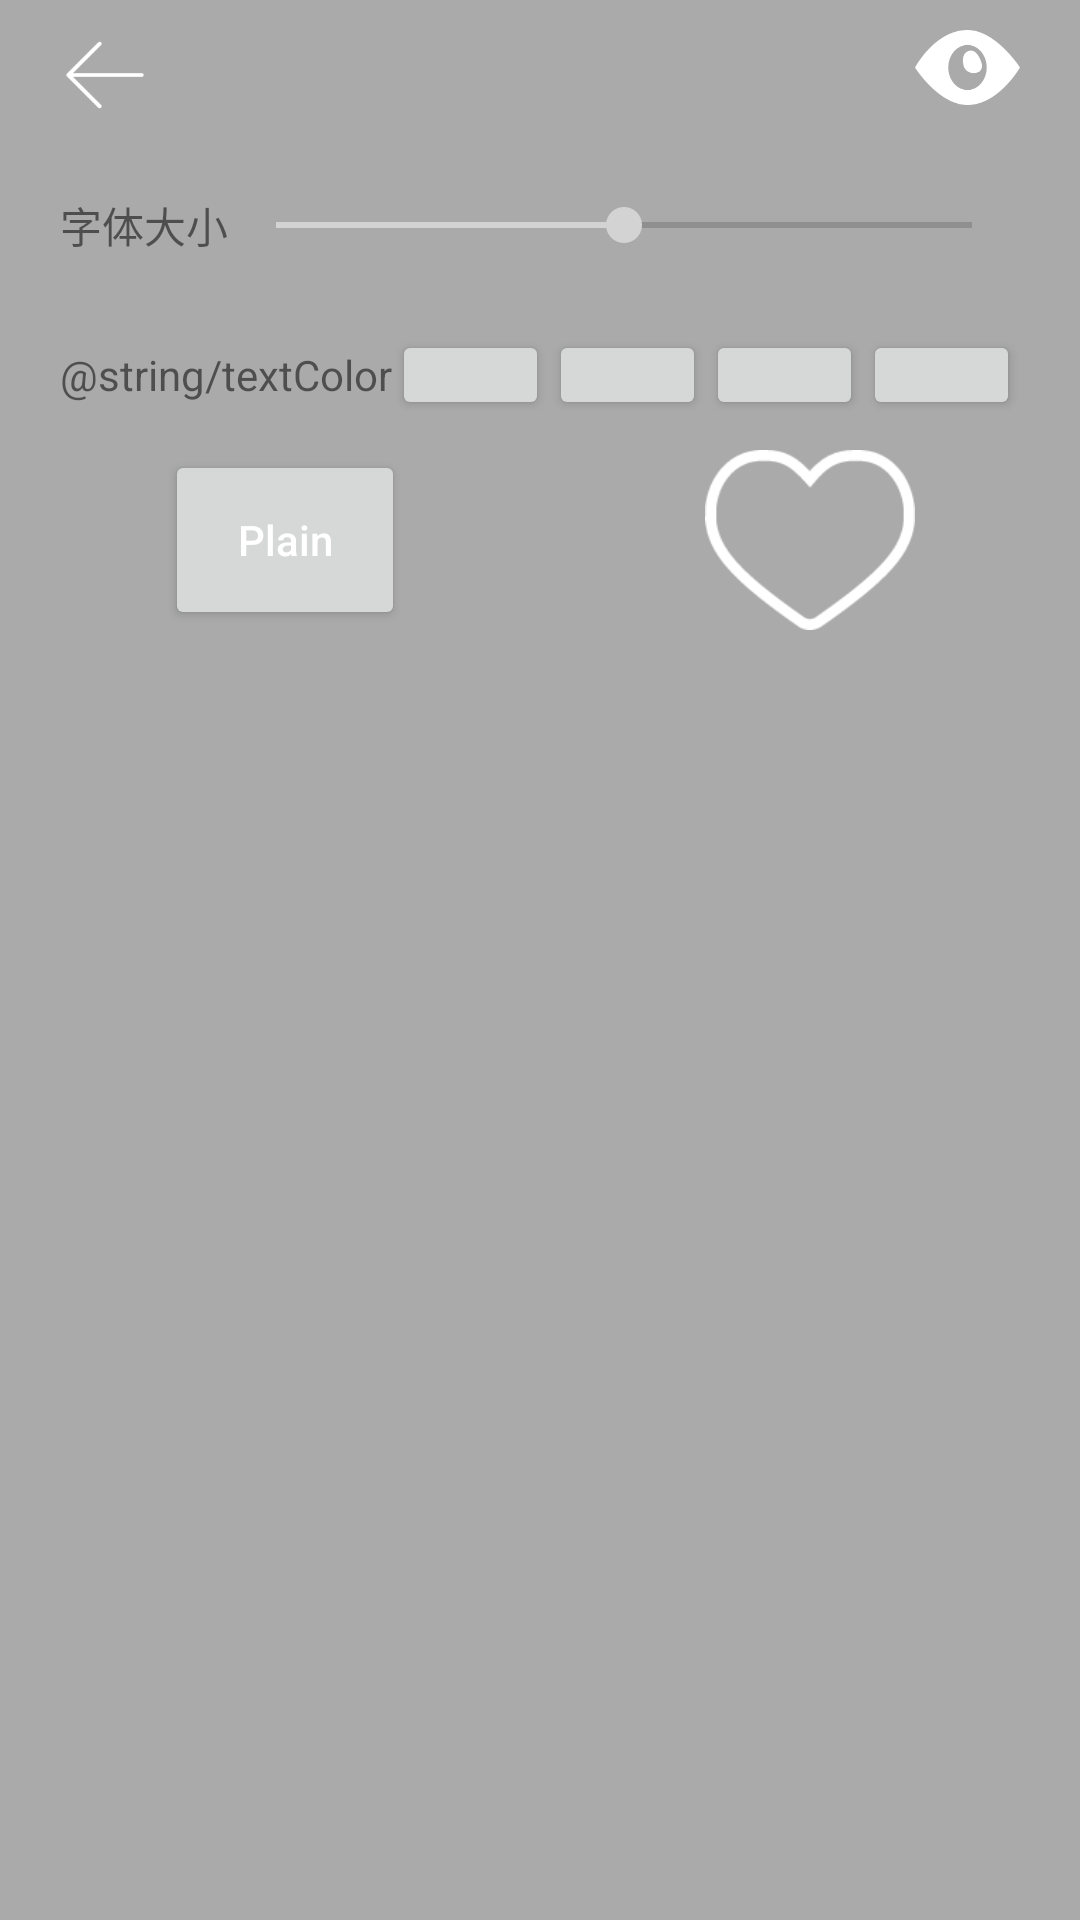

Named icons in this screenshot (1080*1920) and their bounding boxes, (x1, y1, x2, y2):
back: (66, 42, 144, 108)
show: (915, 30, 1020, 105)
unlike: (705, 450, 915, 630)
